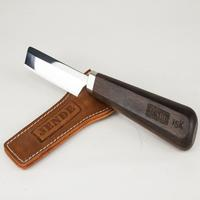knife: (17, 37, 200, 149)
